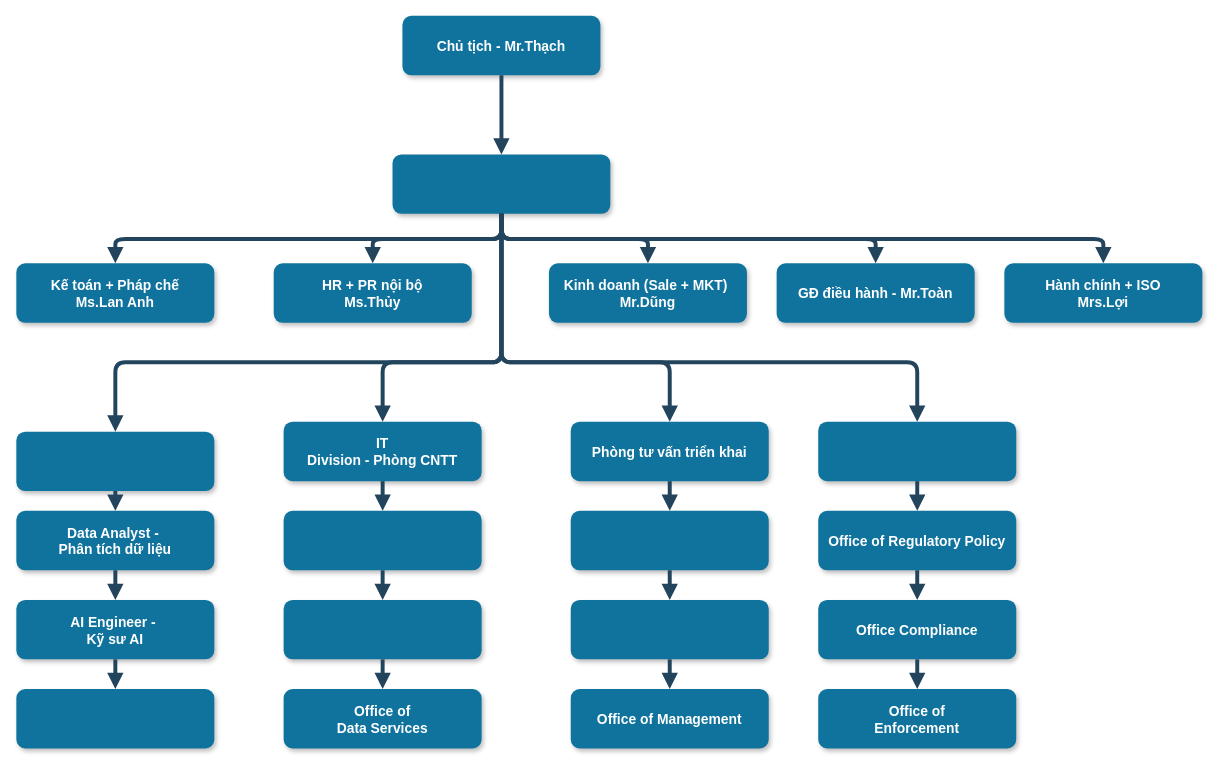
Some shapes in this 1219 by 764 pixel diagram are drawn without their labels. The shapes that lost their labels are listed below. From the top down, each one's centre as x and y in pixels, then its label:
point (502, 185): Tổng giám đốc - Mr.Trường
point (116, 462): Analysis Division - Phòng phân tích dữ liệu
point (918, 452): Regulatory and Enforcement Division
point (383, 541): Database Administration
point (670, 541): Office of Financial Management
point (383, 630): Office of Technology Research
point (670, 630): Office of Human Resources
point (116, 720): R&D
